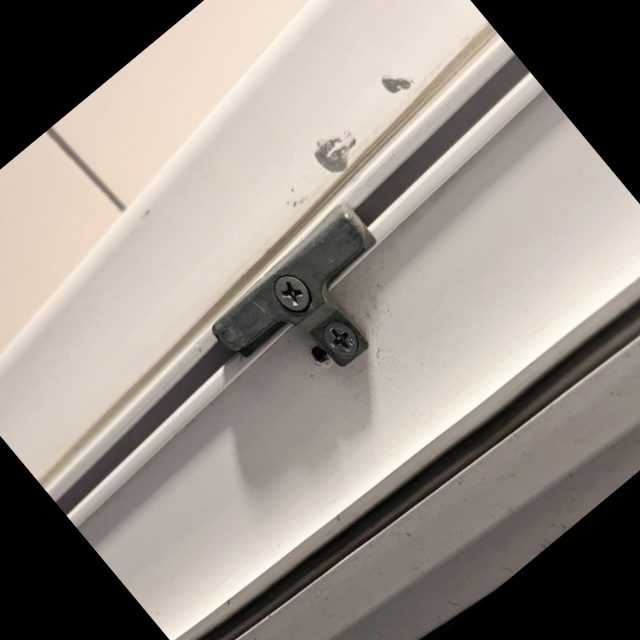phillips: (316, 314, 366, 365), (268, 268, 317, 319)
